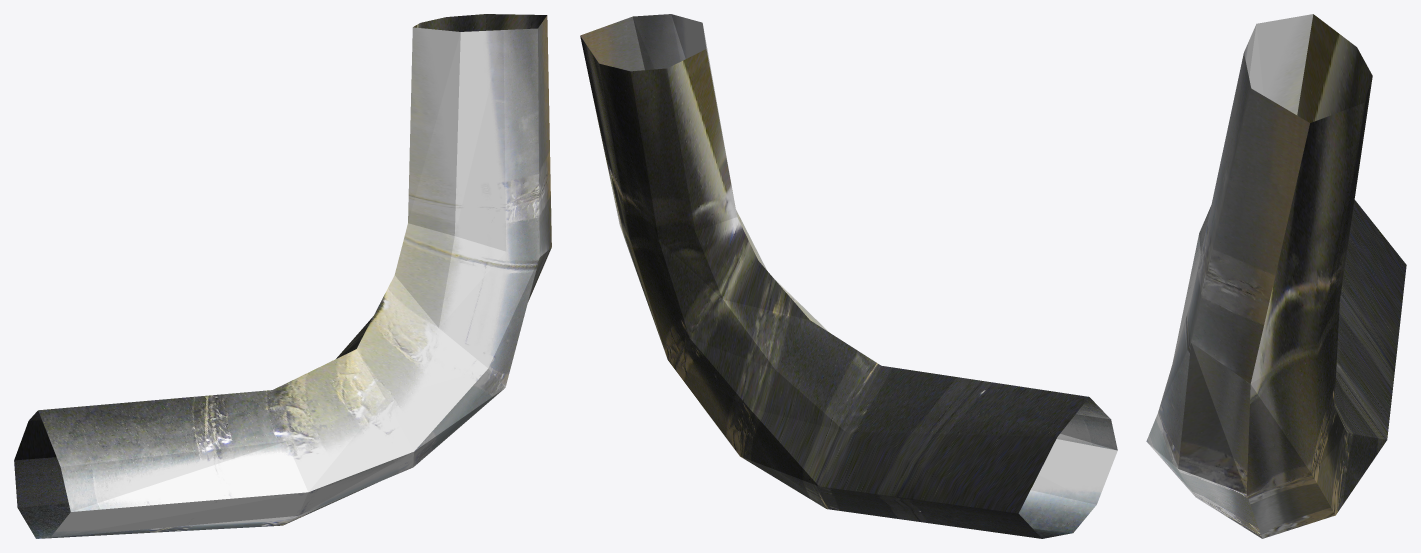
The model's file is airduct.fbx.
3 views of the same model, side by side, from view 1: azimuth 30°, elevation 25°; view 2: azimuth 150°, elevation 25°; view 3: azimuth 270°, elevation 25° (orthographic). The views are drawn at different scales.
Parts seen in each view (by area): view 1: airduct_4sides:Default; view 2: airduct_4sides:Default; view 3: airduct_4sides:Default.
Part boxes in pixels (x1,y1,x2,y2): airduct_4sides:Default: (14,14,551,538); airduct_4sides:Default: (580,14,1117,538); airduct_4sides:Default: (1146,14,1406,538).
Size of the model in its own units: 2.14 by 1.8 by 0.7173.
